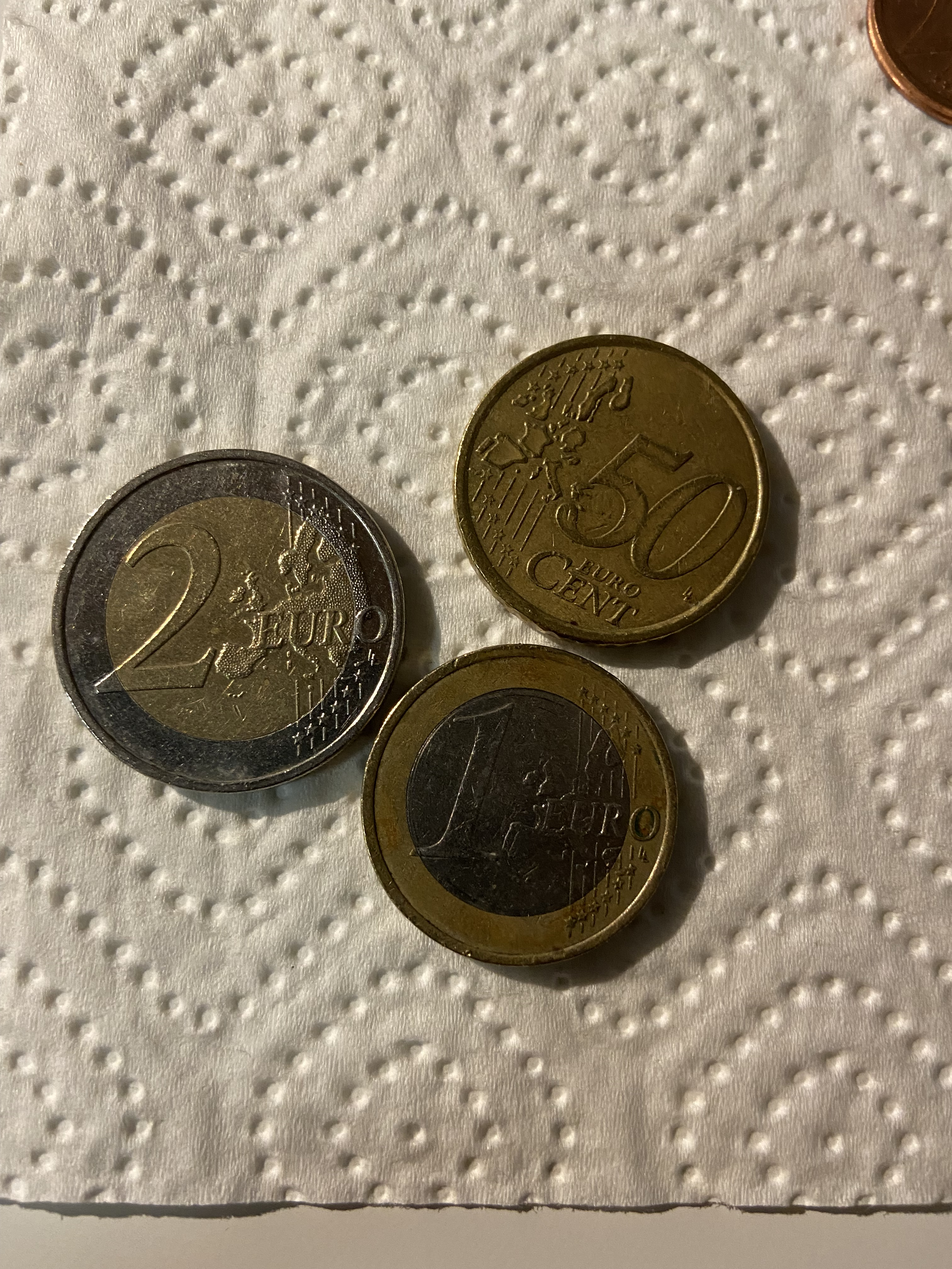1 euro: (342, 644, 692, 973)
2 euro: (44, 441, 407, 798)
50 cent: (443, 327, 777, 650)
